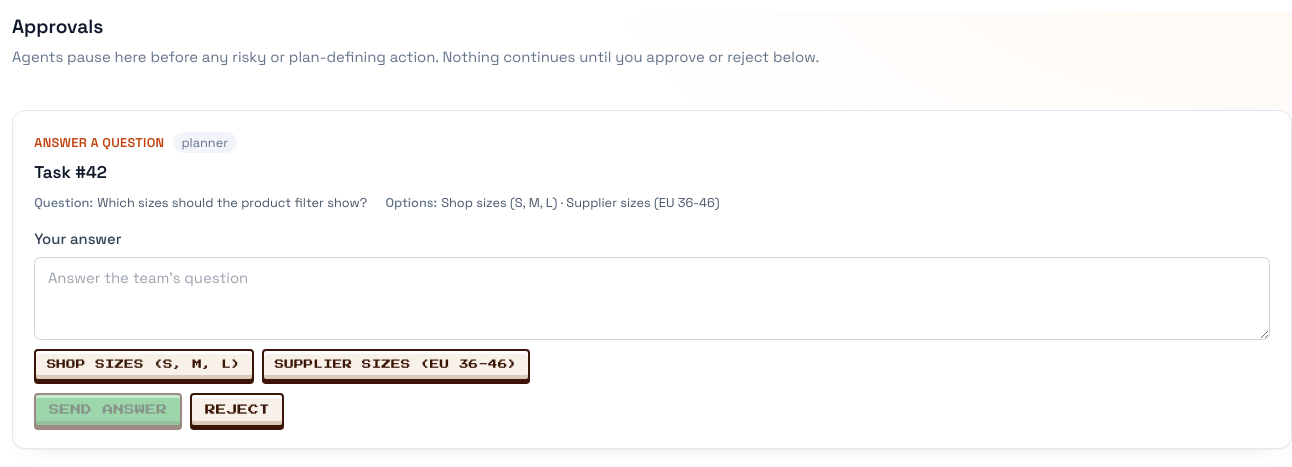
ApprovalsPanel question decisions › keeps clarification Reject as a decision without an answer body
Click the button "Reject" at (237, 410), box [190,393,284,427]
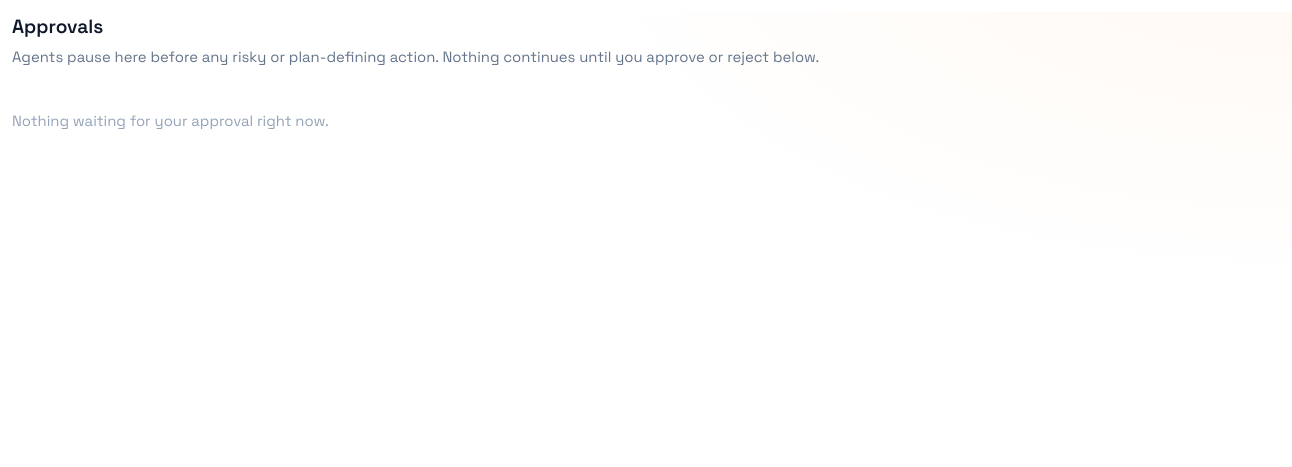
Expected: the text "Nothing waiting for your approval right now." is shown, [12,111,329,130]
